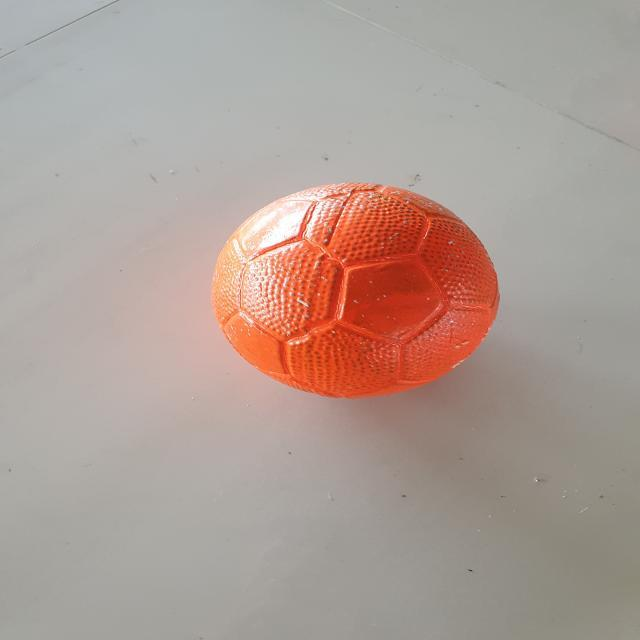bola: (198, 180, 514, 408)
